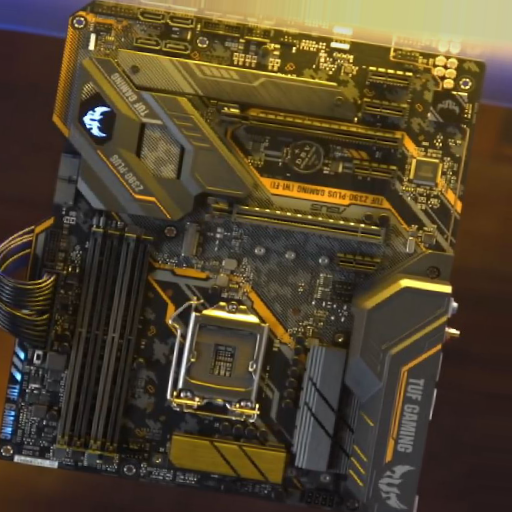CPU: (177, 297, 267, 423)
GPU: (213, 101, 405, 153), (206, 196, 388, 245)
MOTHERBOARD: (2, 1, 485, 512)
RAM: (49, 221, 155, 466)
SSD: (178, 221, 203, 263)
